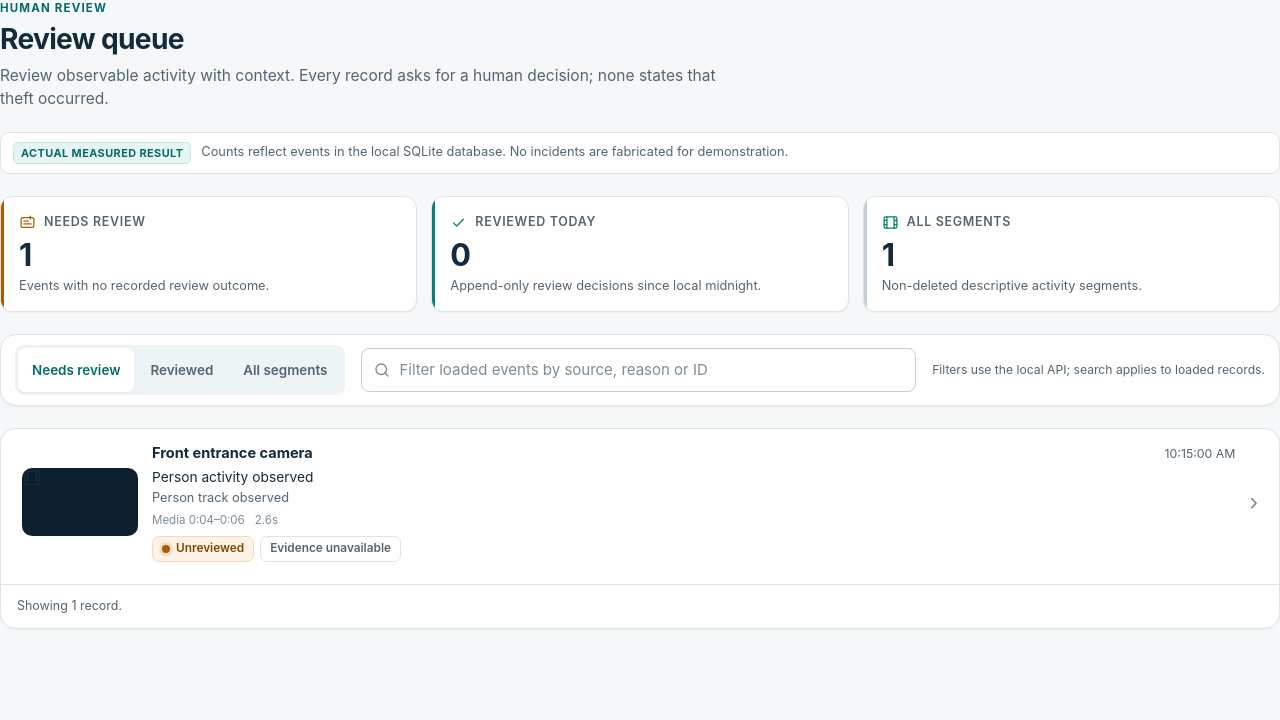
Scenario: ReviewQueuePage › filters only records already loaded, without pretending to search the database
Expected: the text "Front entrance camera" is shown, [152,443,313,465]
Type "forklift" into the search field with placeholder "Filter loaded events by source, reason or ID" at (638, 370), box [360,348,916,392]
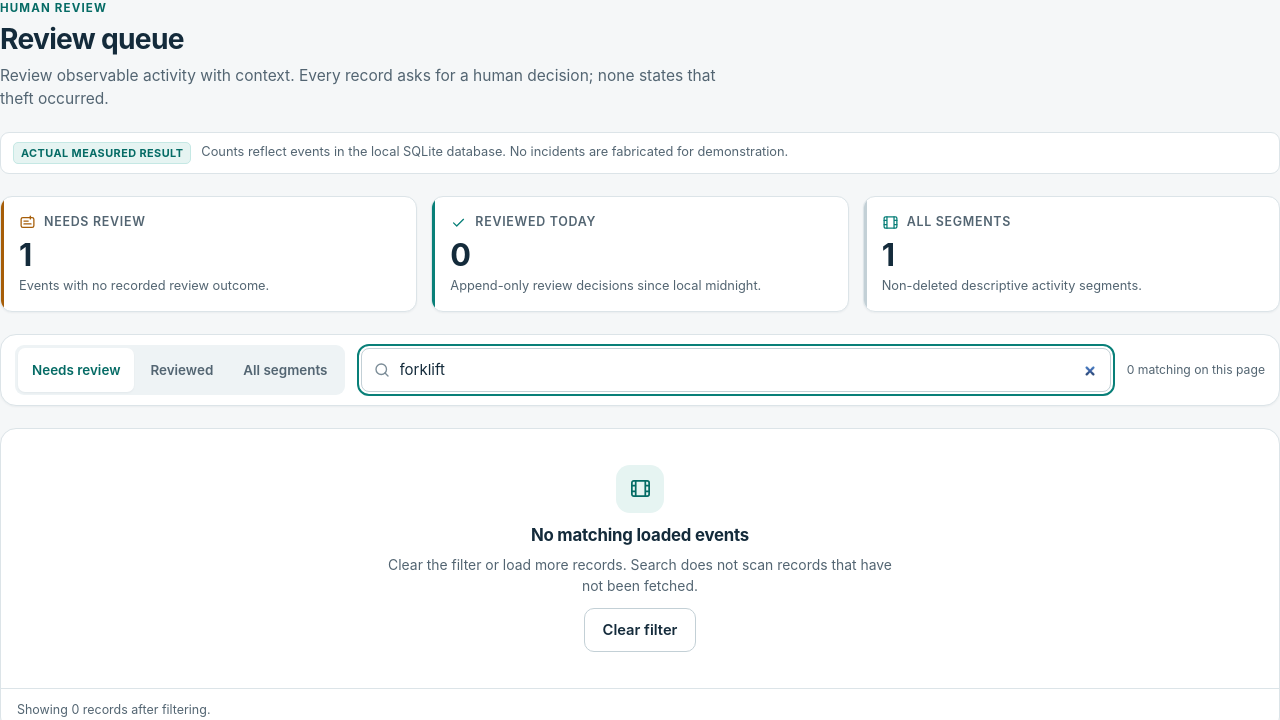
Now the heading "No matching loaded events" is shown, box [531,525,749,547]
Now the text "Search does not scan records that have not been fetched" is shown, box [388,557,892,594]
Click the button "Clear filter" at (640, 630), box [584,608,696,652]
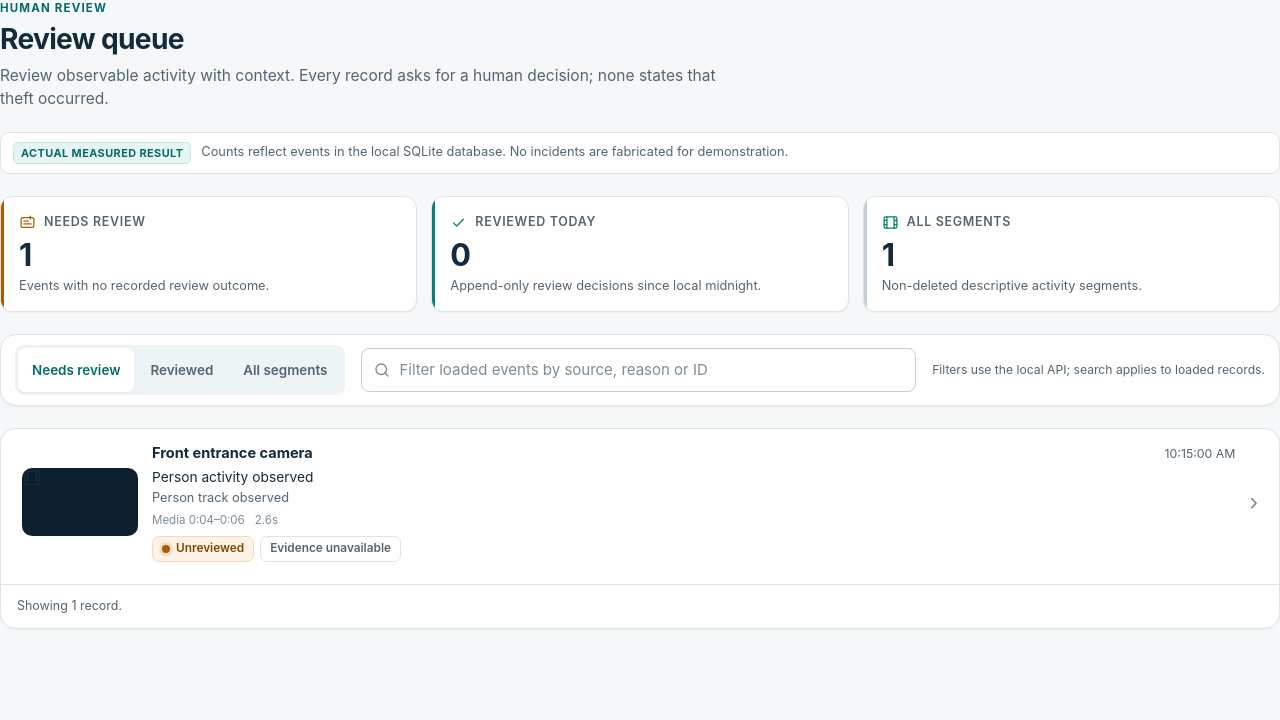
Now the text "Front entrance camera" is shown, box [152,443,313,465]
